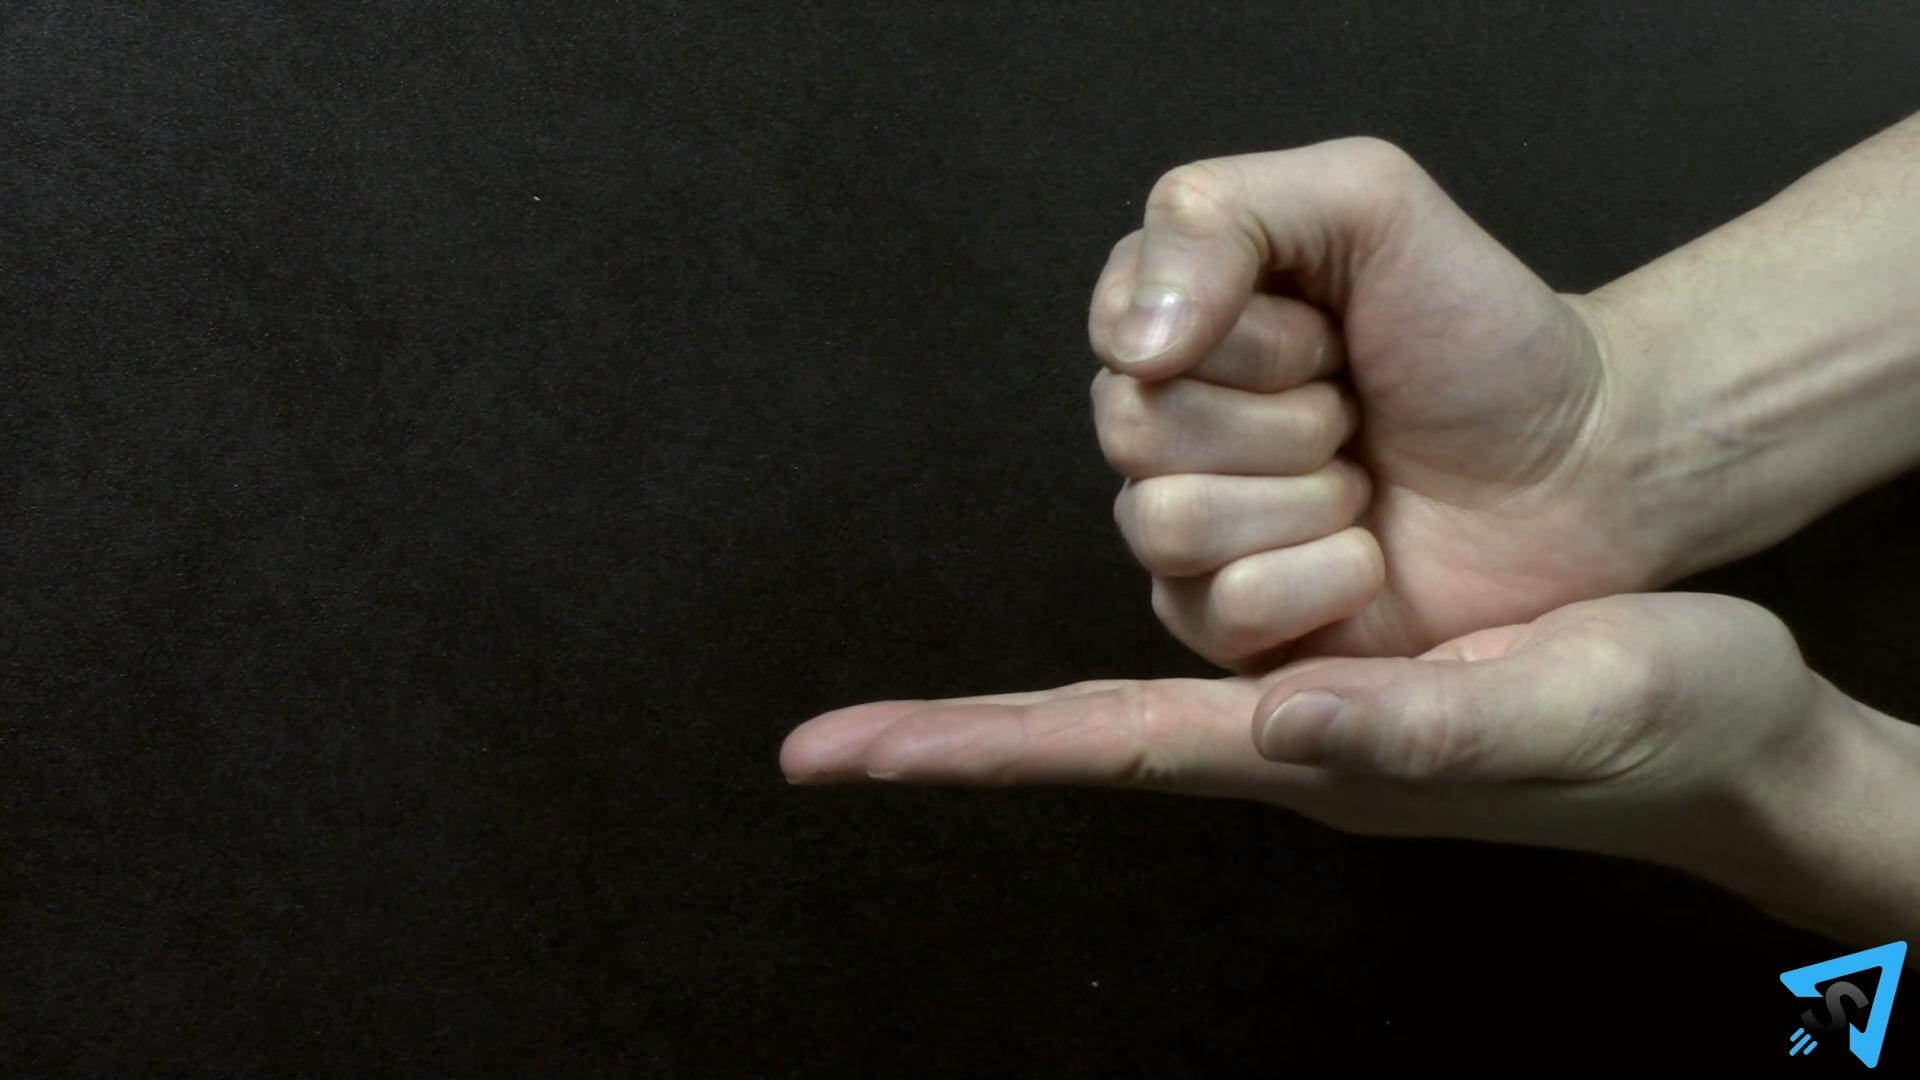Rock: (1083, 128, 1667, 671)
